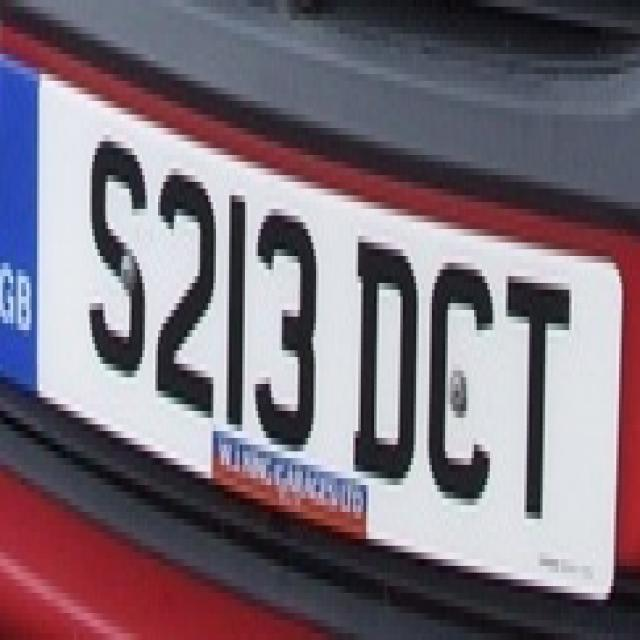licenseplate: (0, 26, 627, 614)
